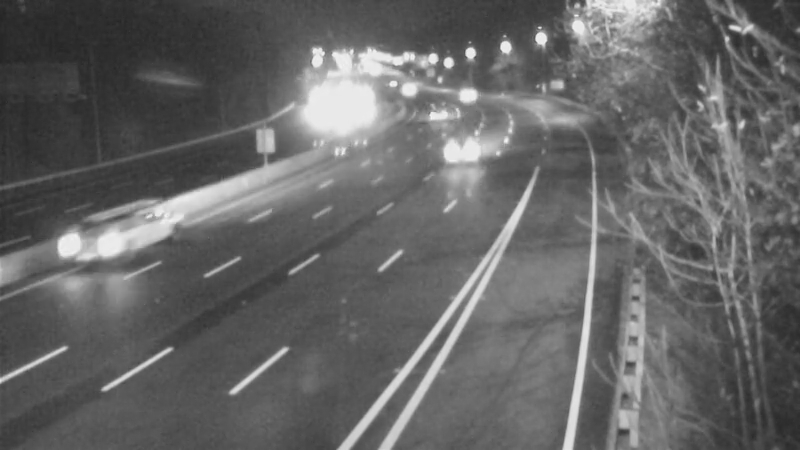vehicle: (78, 189, 158, 269), (383, 62, 433, 112), (445, 70, 495, 120), (414, 87, 464, 137), (439, 124, 489, 174)
